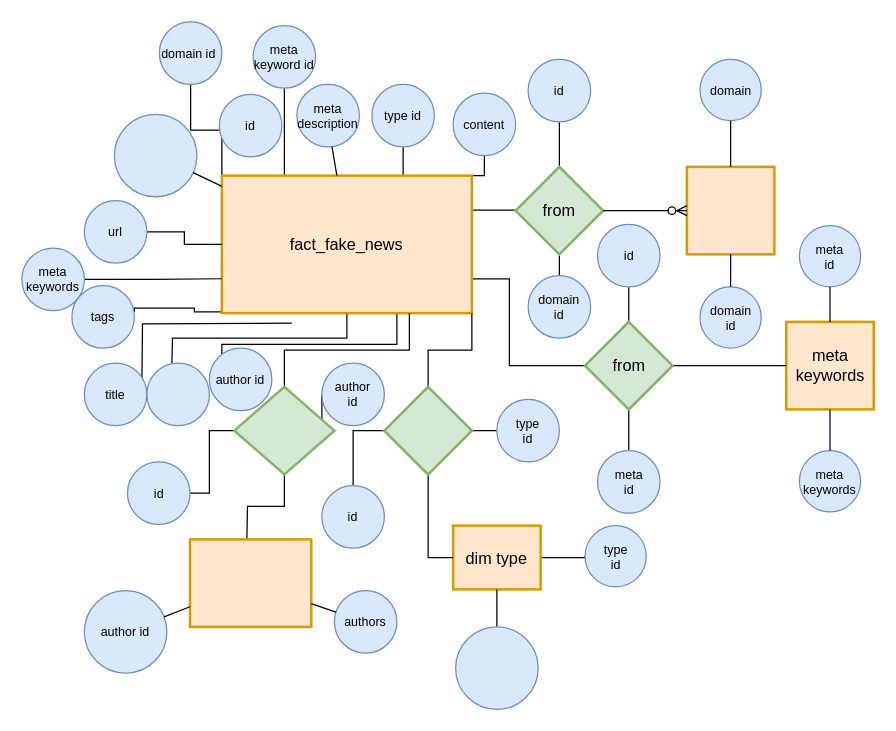
Image size: 896x731. Some labels were removed from this diagram. Each missing label, with the box of its shape:
dim domain: (685, 165, 775, 255)
dim_authors: (188, 538, 312, 628)
is: (382, 385, 472, 475)
keywords: (113, 113, 197, 197)
summary: (146, 362, 209, 426)
type: (454, 626, 538, 709)
written by: (232, 385, 335, 475)
